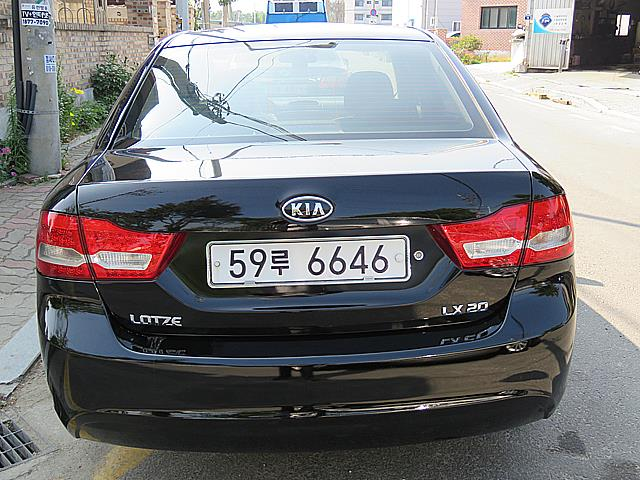plate: (211, 239, 405, 284)
